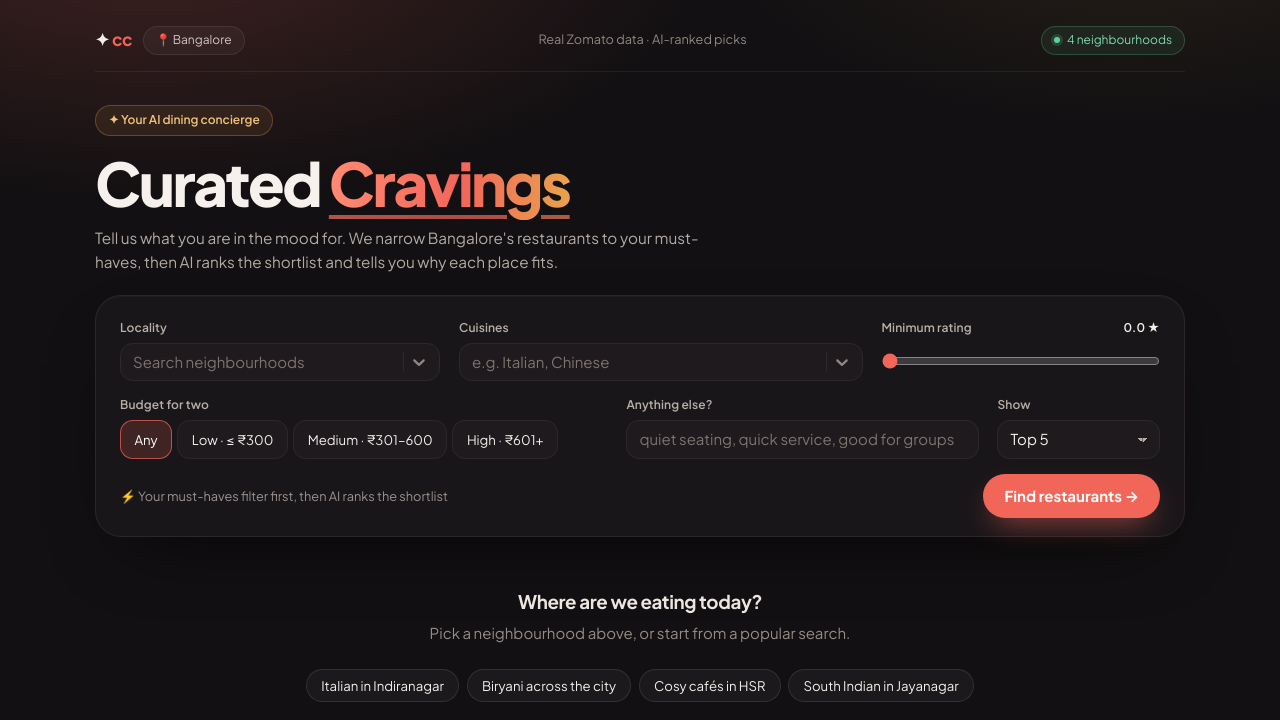
searching › fills the form from a quick search and runs it
The image size is (1280, 720).
Expected: the button "Find restaurants →" is shown, [983,474,1160,518]
What coordinates should you click on to do the following:
click the button "South Indian in Jayanagar"
I would click on:
 (881, 686)
Its box is [788,669,974,702].
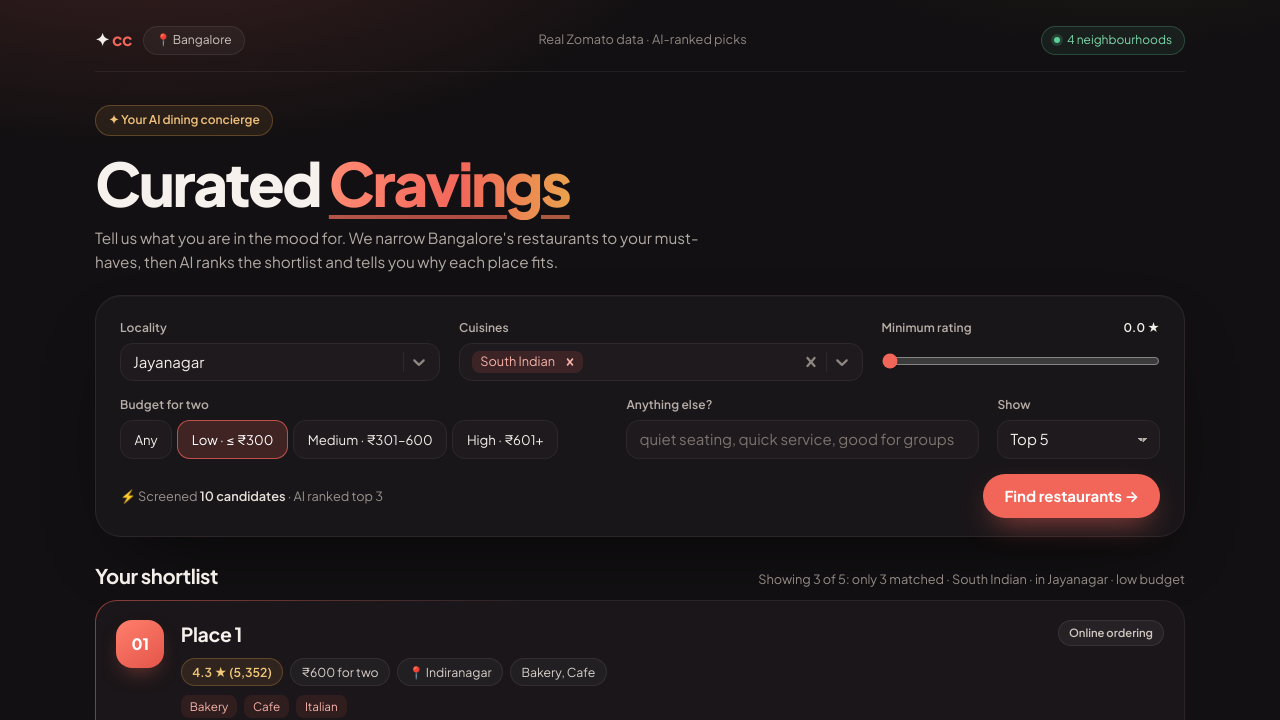
Result: the number of elements with class "cc-card" is 3
Result: the text "Jayanagar" is shown at [133,352,204,371]
Result: the radio button labelled "Low · ≤ ₹300" is checked at [177,420,288,459]
